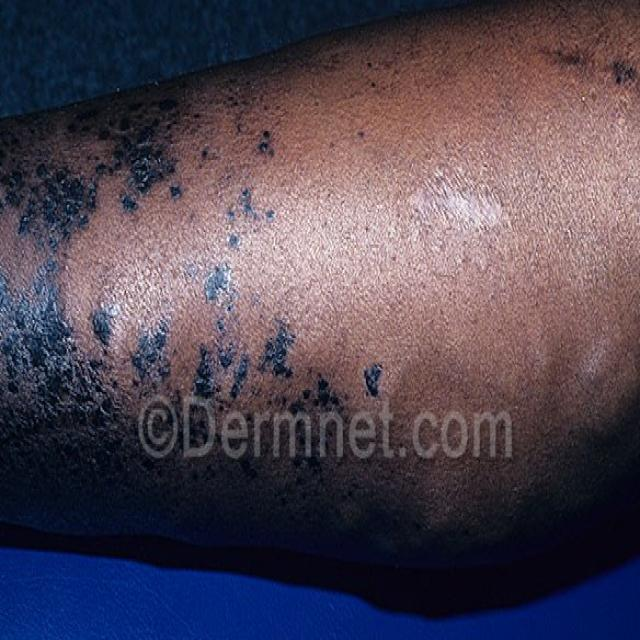Vascular Tumors: (0, 134, 382, 519), (530, 9, 640, 153)
